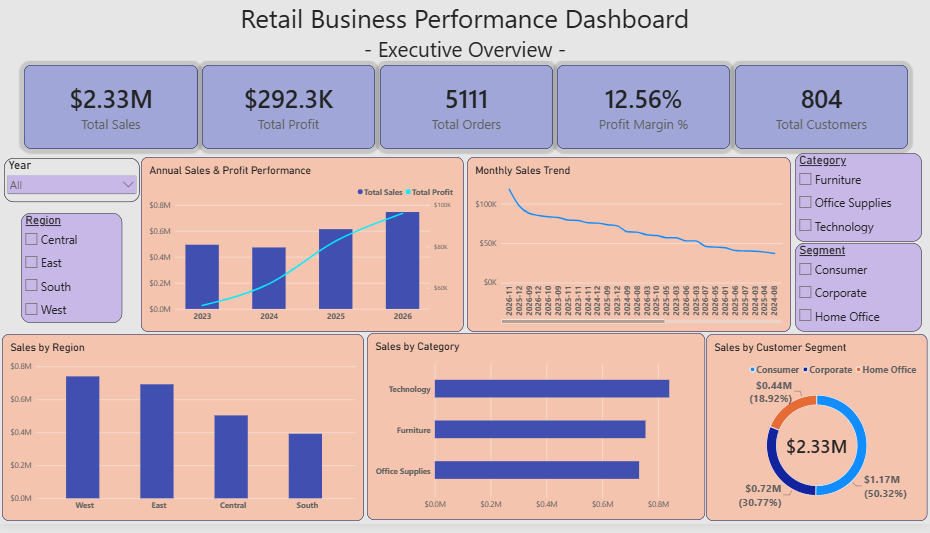

Layout of this report page (visuals, bound fields, positions):
{"tool":"powerbi","page":{"name":"Executive Overview","canvas":[1920,1080],"ordinal":0},"visuals":[{"type":"card","fields":{"Values":["superstore.Total Sales"]},"box":[49.3,134.1,358.7,173.4],"z":0},{"type":"textbox","box":[0,0,1919.6,159.6],"z":1000},{"type":"card","fields":{"Values":["superstore.Total Profit"]},"box":[417.8,134.1,356.7,173.4],"z":2000},{"type":"card","fields":{"Values":["superstore.Total Customers"]},"box":[1517.5,134.1,356.7,173.4],"z":3000},{"type":"card","fields":{"Values":["superstore.Total Orders"]},"box":[784.4,134,356.7,173.4],"z":4000},{"type":"card","fields":{"Values":["superstore.Profit Margin %"]},"box":[1150.9,134.1,356.7,173.4],"z":5000},{"type":"lineClusteredColumnComboChart","title":"Annual Sales & Profit Performance","fields":{"Category":["DateTable.Year"],"Y":["superstore.Total Sales"],"Y2":["superstore.Total Profit"]},"box":[291.7,323.2,666.1,360.7],"z":6000},{"type":"lineChart","title":"Monthly Sales Trend","fields":{"Y":["superstore.Total Sales"],"Category":["DateTable.Year Month"]},"box":[963.7,323.2,668.1,360.7],"z":7000},{"type":"barChart","title":"Sales by Category","fields":{"Category":["superstore.Category"],"Y":["superstore.Total Sales"]},"box":[756.8,687.8,697.7,386.3],"z":8000},{"type":"columnChart","title":"Sales by Region","fields":{"Category":["superstore.Region"],"Y":["superstore.Total Sales"]},"box":[3.9,689.8,746.9,386.3],"z":9000},{"type":"donutChart","title":"Sales by Customer Segment","fields":{"Category":["superstore.Segment"],"Y":["superstore.Total Sales"]},"box":[1458.4,689.8,457.2,386.3],"z":10000},{"type":"slicer","fields":{"Values":["DateTable.Year"]},"box":[7.9,327.2,279.9,90.7],"z":11000},{"type":"slicer","fields":{"Values":["superstore.Region"]},"box":[43.4,439.5,208.9,226.6],"z":12000},{"type":"slicer","fields":{"Values":["superstore.Segment"]},"box":[1641.7,502.6,262.1,183.3],"z":13000},{"type":"slicer","fields":{"Values":["superstore.Category"]},"box":[1641.7,315.3,262.1,183.3],"z":14000}]}

Visuals, with their boxes in screenshot pixels (x1, y1, x2, y2), scaled from the page's 1920x1080 canvas onto the 930x533 screenshot:
card - superstore.Total Sales: 24/66/198/152
textbox: 0/0/929/79
card - superstore.Total Profit: 202/66/375/152
card - superstore.Total Customers: 735/66/908/152
card - superstore.Total Orders: 380/66/553/152
card - superstore.Profit Margin %: 557/66/730/152
"Annual Sales & Profit Performance" lineClusteredColumnComboChart: 141/160/464/338
"Monthly Sales Trend" lineChart: 467/160/790/338
"Sales by Category" barChart: 367/339/705/530
"Sales by Region" columnChart: 2/340/364/531
"Sales by Customer Segment" donutChart: 706/340/928/531
slicer - DateTable.Year: 4/161/139/206
slicer - superstore.Region: 21/217/122/329
slicer - superstore.Segment: 795/248/922/339
slicer - superstore.Category: 795/156/922/246
